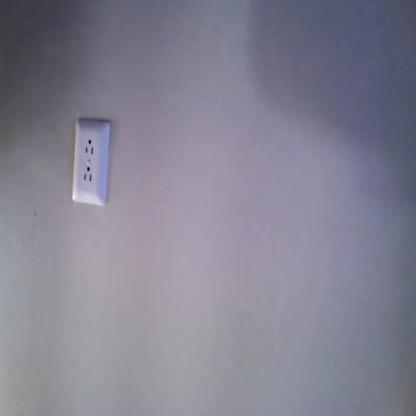OUTLET: (71, 120, 110, 206)
